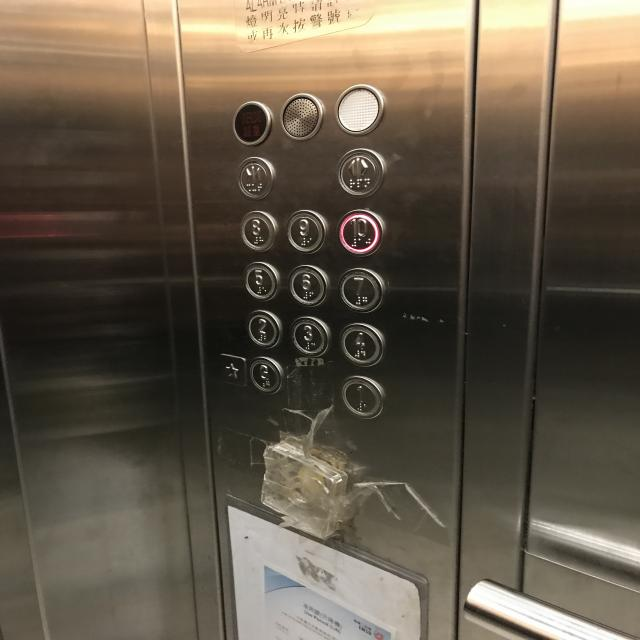1: (338, 374, 386, 420)
10: (332, 208, 386, 258)
2: (244, 309, 282, 349)
3: (288, 315, 330, 357)
4: (338, 322, 386, 366)
5: (240, 260, 280, 302)
6: (286, 264, 328, 307)
7: (334, 266, 386, 314)
8: (238, 210, 278, 252)
9: (283, 208, 327, 254)
G: (247, 355, 284, 394)
close: (234, 156, 277, 200)
empty: (332, 82, 385, 136)
open: (334, 146, 385, 198)
s: (212, 352, 244, 386)
speaker: (278, 91, 324, 140)
text_overweight: (230, 100, 272, 146)
